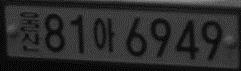1: (67, 13, 90, 54)
4: (175, 19, 199, 60)
6: (125, 15, 148, 57)
8: (44, 12, 65, 53)
9: (201, 19, 223, 62), (149, 16, 171, 58)
아: (93, 16, 116, 53)
울산_V: (19, 10, 42, 53)
